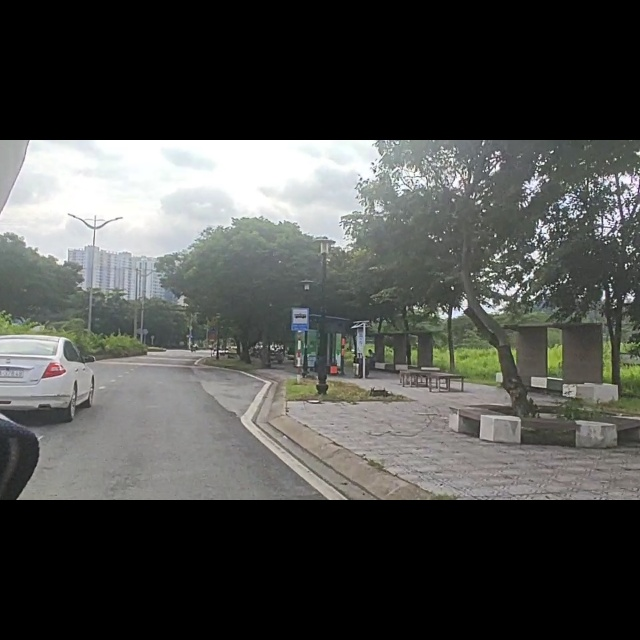bien_hieu_lenh: (287, 289, 316, 346)
